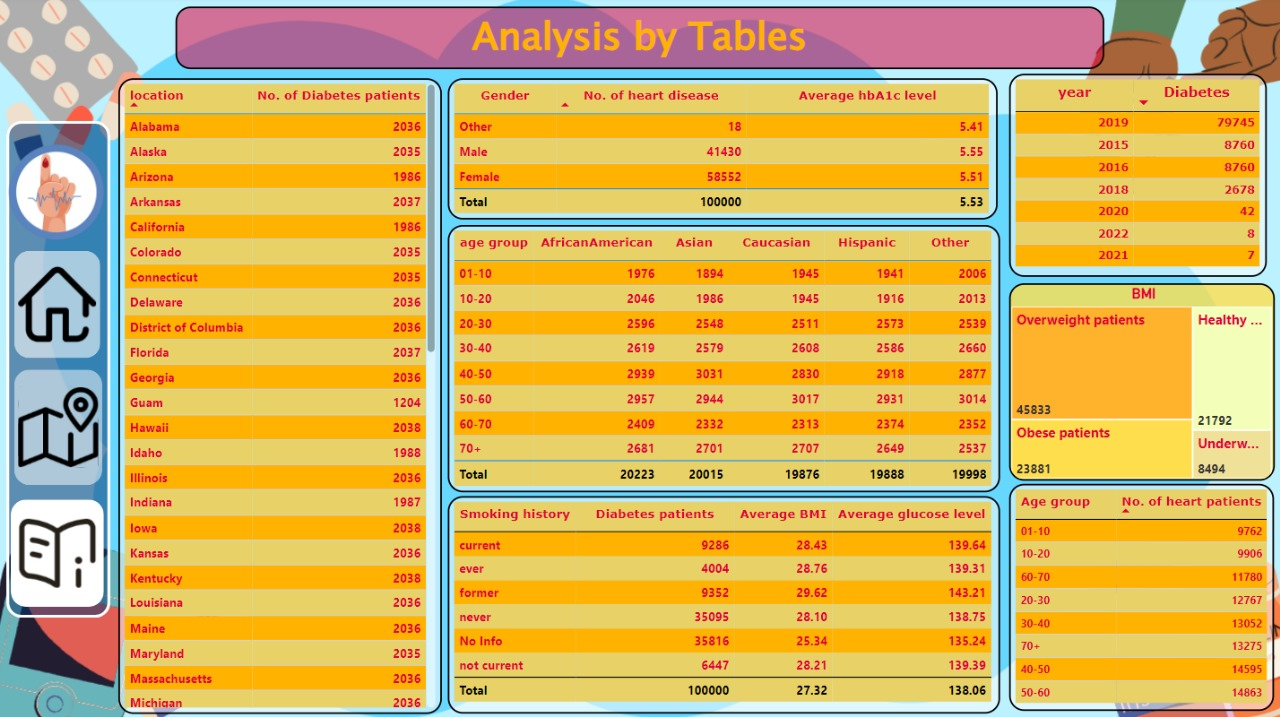

The dashboard page shown, as its layout file describes it:
{"tool":"powerbi","page":{"name":"Analysis by tables","canvas":[1280,720],"ordinal":2},"visuals":[{"type":"shape","box":[8.4,123.5,103.7,495.4],"z":0,"group":"g1"},{"type":"group","id":"g1","title":"Group 1","box":[0,123.5,129,495.4],"z":0},{"type":"textbox","box":[177.2,10,925.7,62.5],"z":1000},{"type":"actionButton","box":[17,252.6,86,107],"z":1000,"group":"g1"},{"type":"tableEx","fields":{"Values":["PROJECT.location","CountNonNull(PROJECT.diabetes)"]},"box":[120.8,81,322.5,634],"z":2000},{"type":"actionButton","box":[16.5,371.3,87.8,115.3],"z":2000,"group":"g1"},{"type":"tableEx","fields":{"Values":["PROJECT.gender","CountNonNull(PROJECT.heart_disease)","Avg(PROJECT.hbA1c_level)"]},"box":[448.9,81.5,548,141],"z":3000},{"type":"actionButton","box":[13.6,501,92.8,107],"z":3000,"group":"g1"},{"type":"image","box":[0,131.7,129,127.6],"z":4000,"group":"g1"},{"type":"tableEx","fields":{"Values":["PROJECT.age group","CountNonNull(PROJECT.heart_disease)"]},"box":[1008.1,486,264,226],"z":4000},{"type":"tableEx","fields":{"Values":["PROJECT.age group","Sum(PROJECT.race:AfricanAmerican)","Sum(PROJECT.race:Asian)","Sum(PROJECT.race:Caucasian)","Sum(PROJECT.race:Hispanic)","Sum(PROJECT.race:Other)"]},"box":[448.7,227.8,550.3,266.2],"z":5000},{"type":"tableEx","fields":{"Values":["PROJECT.smoking_history","CountNonNull(PROJECT.diabetes)","Avg(PROJECT.bmi)","Avg(PROJECT.blood_glucose_level)"]},"box":[448.7,498.1,550.3,216.8],"z":6000},{"type":"tableEx","fields":{"Values":["PROJECT.year","CountNonNull(PROJECT.diabetes)"]},"box":[1008.1,77,257,202],"z":7000},{"type":"treemap","title":"BMI","fields":{"Values":["Measures Table.No. of underweight patients","Measures Table.No. of Overweight patients","Measures Table.No. of Obese patients","Measures Table.No. of Healthy weight patients"]},"box":[1008.1,286,265,197],"z":8000}]}

Visuals, with their boxes in screenshot pixels (x1, y1, x2, y2), scaled from the page's 1280x720 canvas onto the 1280x717 screenshot:
shape: BBox(8, 123, 112, 616)
"Group 1" group: BBox(0, 123, 129, 616)
textbox: BBox(177, 10, 1103, 72)
actionButton: BBox(17, 252, 103, 358)
tableEx - PROJECT.location x CountNonNull(PROJECT.diabetes): BBox(121, 81, 443, 712)
actionButton: BBox(16, 370, 104, 485)
tableEx - PROJECT.gender x CountNonNull(PROJECT.heart_disease): BBox(449, 81, 997, 222)
actionButton: BBox(14, 499, 106, 605)
image: BBox(0, 131, 129, 258)
tableEx - PROJECT.age group x CountNonNull(PROJECT.heart_disease): BBox(1008, 484, 1272, 709)
tableEx - PROJECT.age group x Sum(PROJECT.race:AfricanAmerican): BBox(449, 227, 999, 492)
tableEx - PROJECT.smoking_history x CountNonNull(PROJECT.diabetes): BBox(449, 496, 999, 712)
tableEx - PROJECT.year x CountNonNull(PROJECT.diabetes): BBox(1008, 77, 1265, 278)
"BMI" treemap: BBox(1008, 285, 1273, 481)
